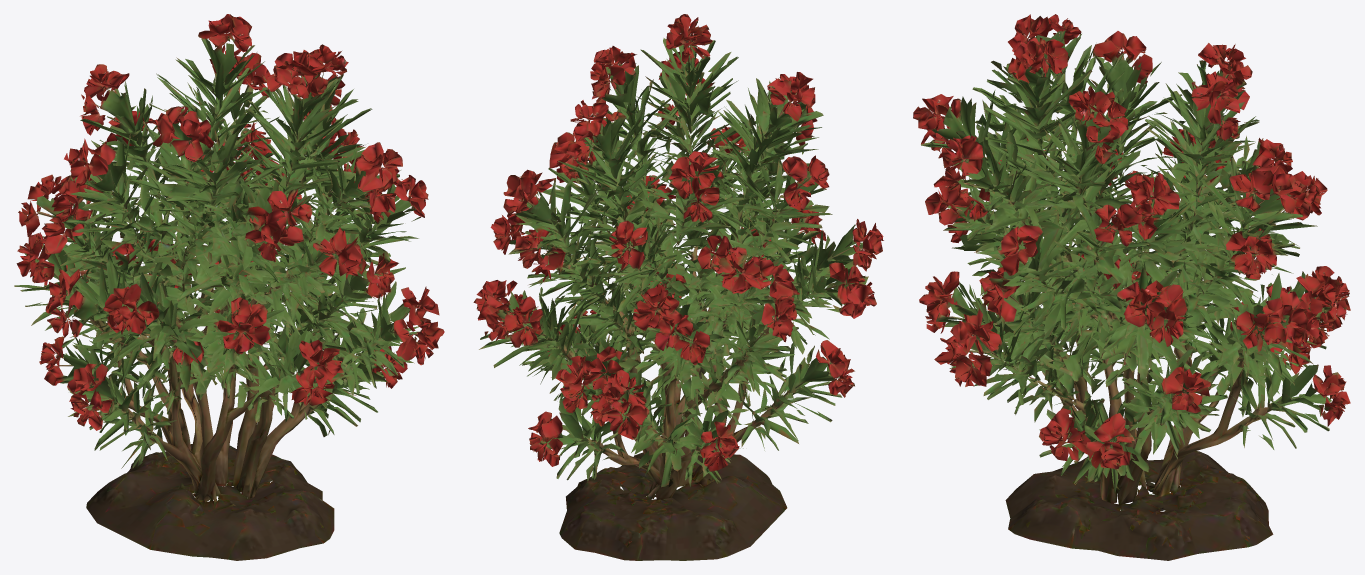
File: nature_bush_t1_oleander.glb
The picture shows the model from 3 angles, left to right: view 1: azimuth 30°, elevation 25°; view 2: azimuth 150°, elevation 25°; view 3: azimuth 270°, elevation 25°; orthographic projection. The views are drawn at different scales.
Parts seen in each view (by area): view 1: world; view 2: world; view 3: world.
Part boxes in pixels (left/top/right/bottom): world: left=14, top=14, right=444, bottom=560; world: left=473, top=14, right=883, bottom=560; world: left=913, top=14, right=1350, bottom=560.
Bounding box in the file's own units: 1.11 × 1.4 × 1.12.
1 material, 1 textured.
